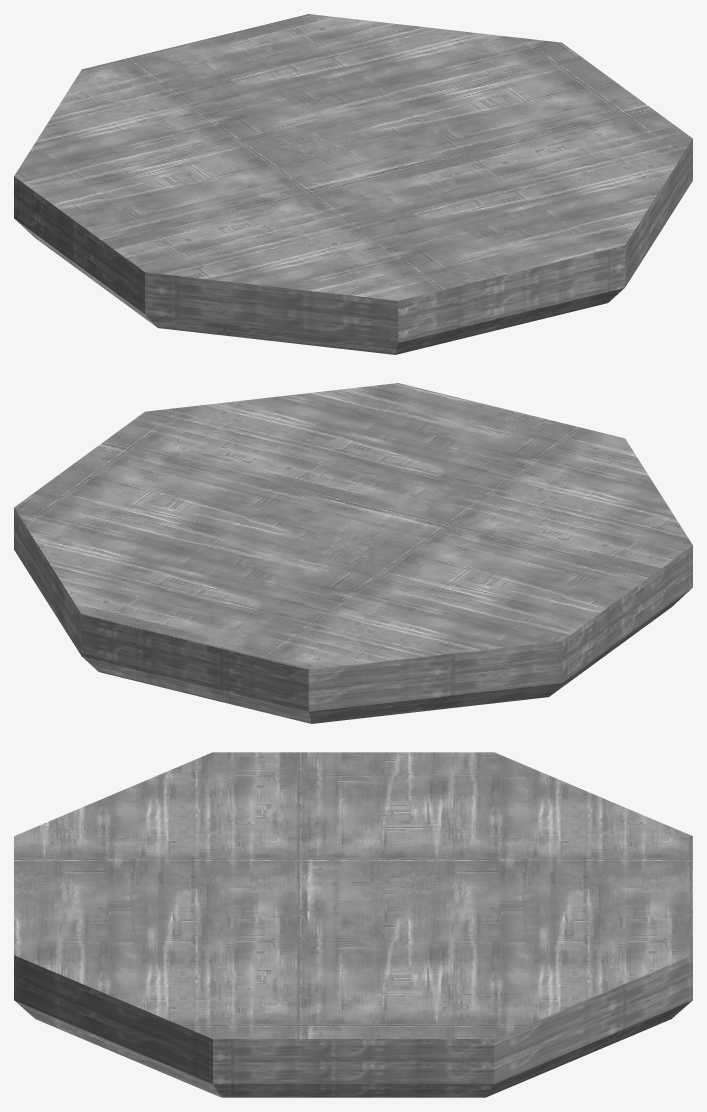
3 renders of one model, top to bottom at view 1: azimuth 30°, elevation 25°; view 2: azimuth 150°, elevation 25°; view 3: azimuth 270°, elevation 25°, orthographic. The views are drawn at different scales.
Visible parts, largest first — view 1: Base_03; view 2: Base_03; view 3: Base_03.
Boxes of the visible parts, <box> form: Base_03: <box>14,14,692,354</box>; Base_03: <box>14,383,692,723</box>; Base_03: <box>14,752,692,1097</box>.
Bounding box in the file's own units: 2730 × 300 × 2730.
